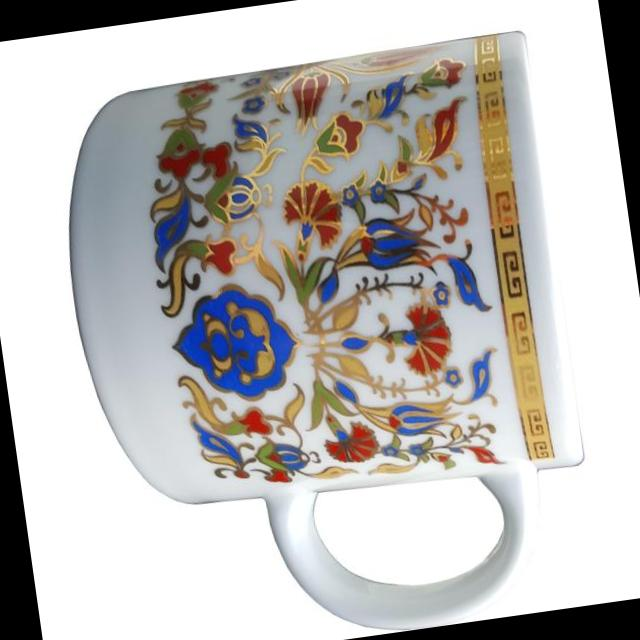Coffee Mug: (43, 27, 607, 640)
